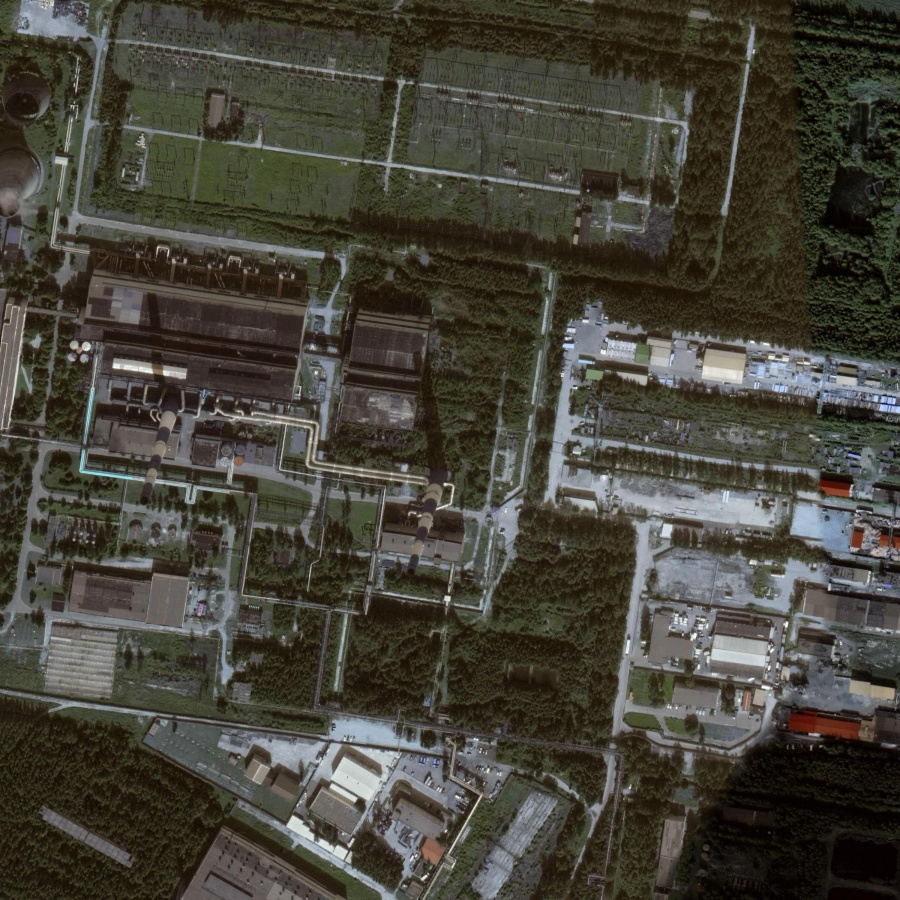PowerPlant: (93, 272, 451, 592)
